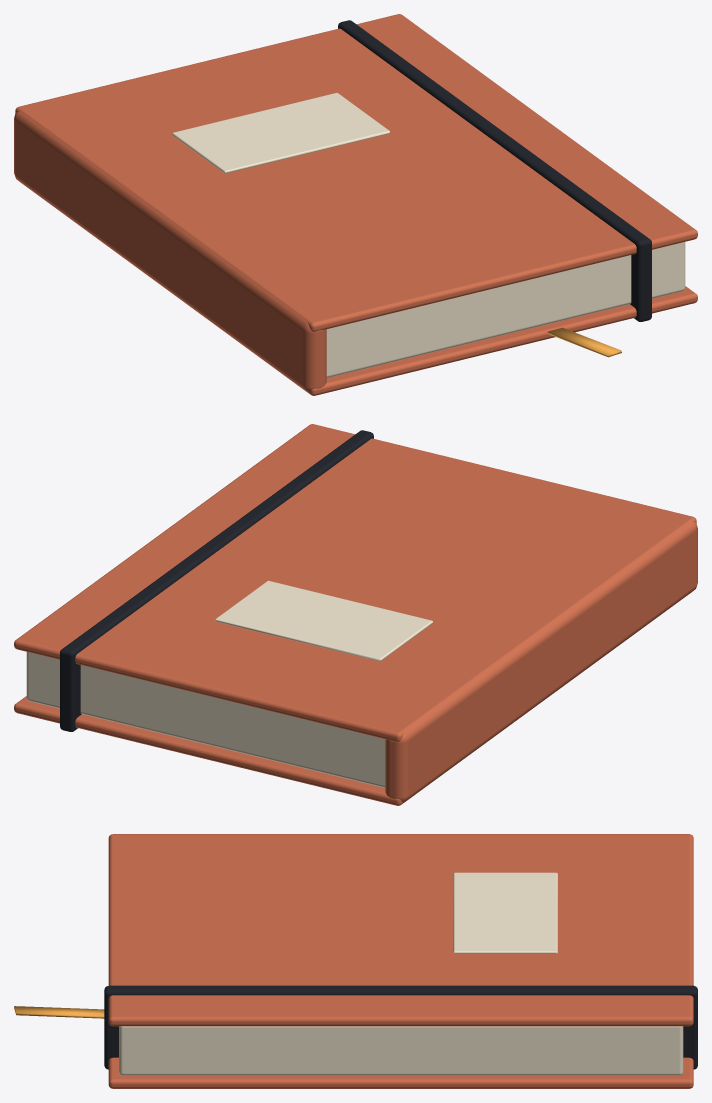
The model's file is journal.glb.
3 renders of one model, top to bottom at view 1: azimuth 30°, elevation 25°; view 2: azimuth 150°, elevation 25°; view 3: azimuth 270°, elevation 25°, orthographic.
Parts seen in each view (by area): view 1: JournalFront, JournalSpine, JournalPages, JournalLabel, JournalBand, JournalBack, JournalRibbon; view 2: JournalFront, JournalSpine, JournalPages, JournalLabel, JournalBand, JournalBack; view 3: JournalFront, JournalPages, JournalLabel, JournalBack, JournalBand, JournalRibbon, JournalSpine.
Part boxes in pixels (x1=…): JournalFront: x1=15, y1=14, x2=697, y2=331; JournalSpine: x1=14, y1=108, x2=326, y2=392; JournalPages: x1=326, y1=242, x2=685, y2=377; JournalLabel: x1=172, y1=93, x2=390, y2=173; JournalBand: x1=338, y1=20, x2=651, y2=321; JournalBack: x1=308, y1=286, x2=697, y2=395; JournalRibbon: x1=548, y1=327, x2=621, y2=357; JournalFront: x1=14, y1=424, x2=696, y2=741; JournalSpine: x1=385, y1=518, x2=697, y2=802; JournalPages: x1=26, y1=652, x2=385, y2=787; JournalLabel: x1=215, y1=580, x2=433, y2=661; JournalBand: x1=60, y1=430, x2=373, y2=731; JournalBack: x1=14, y1=696, x2=403, y2=805; JournalFront: x1=108, y1=834, x2=693, y2=1026; JournalPages: x1=119, y1=1026, x2=683, y2=1075; JournalLabel: x1=453, y1=872, x2=557, y2=953; JournalBack: x1=108, y1=1057, x2=693, y2=1088; JournalBand: x1=104, y1=985, x2=697, y2=1069; JournalRibbon: x1=14, y1=1006, x2=104, y2=1018; JournalSpine: x1=119, y1=835, x2=682, y2=837.
Size of the model in its own units: 0.212 by 0.042 by 0.3272.
